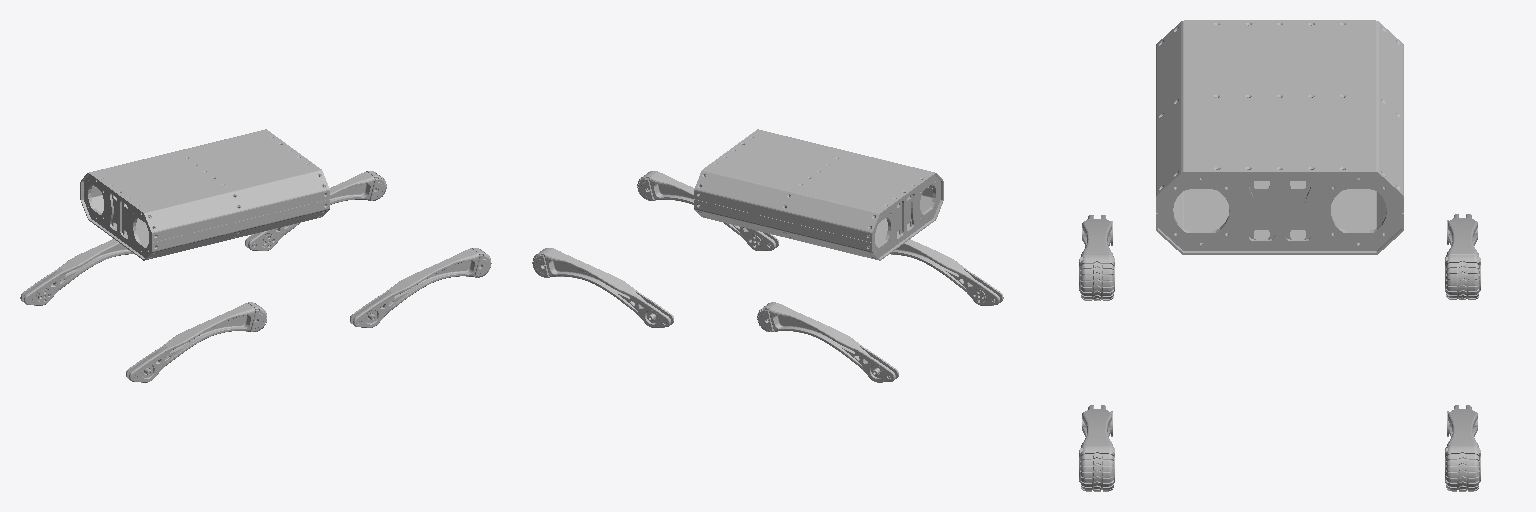
The robot description file, URDF, robot "z2":
<?xml version="1.0"?>
<robot name="z2">
  <!-- package://z2 -->
  <link name="base_link">
    <visual>
      <origin xyz="0 0 0" rpy="0 0 0" />
      <geometry>
        <mesh filename="../meshes/base_link.STL" />
      </geometry>
      <material>
        <color rgba="0.75294000 0.75294000 0.75294000 1.00000000"/>
      </material>
    </visual>
    <collision>
      <origin xyz="-0.0002 0 0.0006991" rpy="0 0 0" />
      <geometry>
        <box size="0.342 0.2369992 0.0869992" />
      </geometry>
    </collision>
    <inertial>
      <origin xyz="-0.000191 0.0000032 0.0006969" rpy="0 0 0" />
      <mass value="6.32" />
      <inertia ixx="0.043000" ixy="0" ixz="0" iyy="0.094133" iyz="0" izz="0.121805" />
    </inertial>
  </link>

  <link name="FL_hip">
    <visual>
      <origin xyz="0 0 0" rpy="0 0 0" />
      <geometry>
        <mesh filename="../meshes/FL_hip.STL" />
      </geometry>
      <material>
        <color rgba="0.75294118 0.75294118 0.75294118 1.00000000"/>
      </material>
    </visual>
    <collision>
      <origin xyz="0.057684 -0.0226742 0.0010791" rpy="1.5707963 0 0" />
      <geometry>
        <cylinder radius="0.0366" length="0.0668" />
      </geometry>
    </collision>
    <inertial>
      <origin xyz="0.0503824 -0.0220598 -0.0002227" rpy="0 0 0" />
      <mass value="0.6" />
      <inertia ixx="0.000554" ixy="0.000086" ixz="0.000005" iyy="0.000603" iyz="-0.000002" izz="0.000641" />
    </inertial>
  </link>

  <link name="FL_thigh">
    <visual>
      <origin xyz="0 0 0" rpy="0 0 0" />
      <geometry>
        <mesh filename="../meshes/FL_thigh.STL" />
      </geometry>
      <material>
        <color rgba="0.75294118 0.75294118 0.75294118 1.00000000"/>
      </material>
    </visual>
    <collision>
      <origin xyz="0 -0.012625 0" rpy="1.5707963 0 0" />
      <geometry>
        <cylinder radius="0.0422" length="0.1005" />
      </geometry>
    </collision>
    <collision>
      <origin xyz="-0.011032 0.0188 -0.077453" rpy="0 0.15 0" />
      <geometry>
        <box size="0.05 0.03 0.19" />
      </geometry>
    </collision>
    <inertial>
      <origin xyz="-0.007049 0.002918 -0.050395" rpy="0 0 0" />
      <mass value="1.013" />
      <inertia ixx="0.005164" ixy="0.000096" ixz="-0.000452" iyy="0.004784" iyz="0.000863" izz="0.001313" />
    </inertial>
  </link>

  <link name="FL_calf">
    <visual>
      <origin xyz="0 0 0" rpy="0 0 0" />
      <geometry>
        <mesh filename="../meshes/FL_calf.STL" />
      </geometry>
      <material>
        <color rgba="0.75294118 0.75294118 0.75294118 1.00000000"/>
      </material>
    </visual>
    <collision>
      <origin xyz="0.002557 0.009165 -0.072349" rpy="0 1.5376 0" />
      <geometry>
        <box size="0.2403 0.04 0.03" />
      </geometry>
    </collision>
    <inertial>
      <origin xyz="0.0081239 0.0001028 -0.0992134" rpy="0 0 0" />
      <mass value="0.1421" />
      <inertia ixx="0.000888" ixy="0" ixz="0.000020" iyy="0.000902" iyz="0.000001" izz="0.000025" />
    </inertial>
  </link>

  <link name="FL_foot">
    <visual>
      <origin xyz="0 0 0" rpy="0 0 0" />
      <geometry>
        <mesh filename="../meshes/FL_foot.STL" />
      </geometry>
      <material>
        <color rgba="0.75294118 0.75294118 0.75294118 1.00000000"/>
      </material>
    </visual>
    <collision>
      <origin xyz="0.000003 -0.00015 0.00064" rpy="0 0 0" />
      <geometry>
        <sphere radius="0.026" />
      </geometry>
    </collision>
    <inertial>
      <origin xyz="-0.0029924 -0.0000316 -0.0056685" rpy="0 0 0" />
      <mass value="0.0241" />
      <inertia ixx="0.000005" ixy="0" ixz="0.000001" iyy="0.000005" iyz="0" izz="0.000006" />
    </inertial>
  </link>

  <link name="FR_hip">
    <visual>
      <origin xyz="0 0 0" rpy="0 0 0" />
      <geometry>
        <mesh filename="../meshes/FR_hip.STL" />
      </geometry>
      <material>
        <color rgba="0.75294118 0.75294118 0.75294118 1.00000000"/>
      </material>
    </visual>
    <collision>
      <origin xyz="0.057684 0.0226742 0.0010791" rpy="1.5707963 0 0" />
      <geometry>
        <cylinder radius="0.0366" length="0.0668" />
      </geometry>
    </collision>
    <inertial>
      <origin xyz="0.0506296 0.0221701 -0.000239" rpy="0 0 0" />
      <mass value="0.6" />
      <inertia ixx="0.000554" ixy="-0.000086" ixz="0.000005" iyy="0.000603" iyz="0.000002" izz="0.000641" />
    </inertial>
  </link>

  <link name="FR_thigh">
    <visual>
      <origin xyz="0 0 0" rpy="0 0 0" />
      <geometry>
        <mesh filename="../meshes/FR_thigh.STL" />
      </geometry>
      <material>
        <color rgba="0.75294118 0.75294118 0.75294118 1.00000000"/>
      </material>
    </visual>
    <collision>
      <origin xyz="0 0.012625 0" rpy="1.5707963 0 0" />
      <geometry>
        <cylinder radius="0.0422" length="0.1005" />
      </geometry>
    </collision>
    <collision>
      <origin xyz="-0.011032 -0.0188 -0.077453" rpy="0 0.15 0" />
      <geometry>
        <box size="0.05 0.03 0.19" />
      </geometry>
    </collision>
    <inertial>
      <origin xyz="-0.007071 -0.003119 -0.050404" rpy="0 0 0" />
      <mass value="1.013" />
      <inertia ixx="0.005163" ixy="-0.000094" ixz="-0.000451" iyy="0.004783" iyz="-0.000862" izz="0.001312" />
    </inertial>
  </link>

  <link name="FR_calf">
    <visual>
      <origin xyz="0 0 0" rpy="0 0 0" />
      <geometry>
        <mesh filename="../meshes/FR_calf.STL" />
      </geometry>
      <material>
        <color rgba="0.75294118 0.75294118 0.75294118 1.00000000"/>
      </material>
    </visual>
    <collision>
      <origin xyz="0.002557 -0.009165 -0.072349" rpy="0 1.5376 0" />
      <geometry>
        <box size="0.2403 0.04 0.03" />
      </geometry>
    </collision>
    <inertial>
      <origin xyz="0.0081241 -0.0001029 -0.0992124" rpy="0 0 0" />
      <mass value="0.1421" />
      <inertia ixx="0.000888" ixy="0" ixz="0.000020" iyy="0.000902" iyz="-0.000001" izz="0.000025" />
    </inertial>
  </link>

  <link name="FR_foot">
    <visual>
      <origin xyz="0 0 0" rpy="0 0 0" />
      <geometry>
        <mesh filename="../meshes/FR_foot.STL" />
      </geometry>
      <material>
        <color rgba="0.75294118 0.75294118 0.75294118 1.00000000"/>
      </material>
    </visual>
    <collision>
      <origin xyz="0.000003 0.00015 0.00064" rpy="0 0 0" />
      <geometry>
        <sphere radius="0.026" />
      </geometry>
    </collision>
    <inertial>
      <origin xyz="-0.0029924 0.0000316 -0.0056685" rpy="0 0 0" />
      <mass value="0.0241" />
      <inertia ixx="0.000005" ixy="0" ixz="0.000001" iyy="0.000005" iyz="0" izz="0.000006" />
    </inertial>
  </link>

  <link name="RL_hip">
    <visual>
      <origin xyz="0 0 0" rpy="0 0 0" />
      <geometry>
        <mesh filename="../meshes/RL_hip.STL" />
      </geometry>
      <material>
        <color rgba="0.75294118 0.75294118 0.75294118 1.00000000"/>
      </material>
    </visual>
    <collision>
      <origin xyz="-0.057684 -0.0226742 0.0010791" rpy="1.5707963 0 0" />
      <geometry>
        <cylinder radius="0.0366" length="0.0668" />
      </geometry>
    </collision>
    <inertial>
      <origin xyz="-0.0506619 -0.0222818 -0.0002469" rpy="0 0 0" />
      <mass value="0.6" />
      <inertia ixx="0.000554" ixy="-0.000085" ixz="-0.000005" iyy="0.000603" iyz="-0.000002" izz="0.000641" />
    </inertial>
  </link>

  <link name="RL_thigh">
    <visual>
      <origin xyz="0 0 0" rpy="0 0 0" />
      <geometry>
        <mesh filename="../meshes/RL_thigh.STL" />
      </geometry>
      <material>
        <color rgba="0.75294118 0.75294118 0.75294118 1.00000000"/>
      </material>
    </visual>
    <collision>
      <origin xyz="0 -0.012625 0" rpy="1.5707963 0 0" />
      <geometry>
        <cylinder radius="0.0422" length="0.1005" />
      </geometry>
    </collision>
    <collision>
      <origin xyz="-0.011032 0.0188 -0.077453" rpy="0 0.15 0" />
      <geometry>
        <box size="0.05 0.03 0.19" />
      </geometry>
    </collision>
    <inertial>
      <origin xyz="-0.007049 0.003118 -0.050395" rpy="0 0 0" />
      <mass value="1.013" />
      <inertia ixx="0.005164" ixy="0.000096" ixz="-0.000452" iyy="0.004784" iyz="0.000863" izz="0.001313" />
    </inertial>
  </link>

  <link name="RL_calf">
    <visual>
      <origin xyz="0 0 0" rpy="0 0 0" />
      <geometry>
        <mesh filename="../meshes/RL_calf.STL" />
      </geometry>
      <material>
        <color rgba="0.75294118 0.75294118 0.75294118 1.00000000"/>
      </material>
    </visual>
    <collision>
      <origin xyz="0.002557 0.009165 -0.072349" rpy="0 1.5376 0" />
      <geometry>
        <box size="0.2403 0.04 0.03" />
      </geometry>
    </collision>
    <inertial>
      <origin xyz="0.0081239 0.0001028 -0.0992134" rpy="0 0 0" />
      <mass value="0.1421" />
      <inertia ixx="0.000888" ixy="0" ixz="0.000020" iyy="0.000902" iyz="0.000001" izz="0.000025" />
    </inertial>
  </link>

  <link name="RL_foot">
    <visual>
      <origin xyz="0 0 0" rpy="0 0 0" />
      <geometry>
        <mesh filename="../meshes/RL_foot.STL" />
      </geometry>
      <material>
        <color rgba="0.75294118 0.75294118 0.75294118 1.00000000"/>
      </material>
    </visual>
    <collision>
      <origin xyz="0.000003 -0.00015 0.00064" rpy="0 0 0" />
      <geometry>
        <sphere radius="0.026" />
      </geometry>
    </collision>
    <inertial>
      <origin xyz="-0.0029924 -0.0000316 -0.0056685" rpy="0 0 0" />
      <mass value="0.0241" />
      <inertia ixx="0.000005" ixy="0" ixz="0.000001" iyy="0.000005" iyz="0" izz="0.000006" />
    </inertial>
  </link>

  <link name="RR_hip">
    <visual>
      <origin xyz="0 0 0" rpy="0 0 0" />
      <geometry>
        <mesh filename="../meshes/RR_hip.STL" />
      </geometry>
      <material>
        <color rgba="0.75294118 0.75294118 0.75294118 1.00000000"/>
      </material>
    </visual>
    <collision>
      <origin xyz="-0.057684 0.0226742 0.0010791" rpy="1.5707963 0 0" />
      <geometry>
        <cylinder radius="0.0366" length="0.0668" />
      </geometry>
    </collision>
    <inertial>
      <origin xyz="-0.0506297 0.0221701 -0.0002391" rpy="0 0 0" />
      <mass value="0.6" />
      <inertia ixx="0.000554" ixy="0.000086" ixz="-0.000005" iyy="0.000603" iyz="0.000002" izz="0.000641" />
    </inertial>
  </link>

  <link name="RR_thigh">
    <visual>
      <origin xyz="0 0 0" rpy="0 0 0" />
      <geometry>
        <mesh filename="../meshes/RR_thigh.STL" />
      </geometry>
      <material>
        <color rgba="0.75294118 0.75294118 0.75294118 1.00000000"/>
      </material>
    </visual>
    <collision>
      <origin xyz="0 0.012625 0" rpy="1.5707963 0 0" />
      <geometry>
        <cylinder radius="0.0422" length="0.1005" />
      </geometry>
    </collision>
    <collision>
      <origin xyz="-0.011032 -0.0188 -0.077453" rpy="0 0.15 0" />
      <geometry>
        <box size="0.05 0.03 0.19" />
      </geometry>
    </collision>
    <inertial>
      <origin xyz="-0.006854 -0.003352 -0.049844" rpy="0 0 0" />
      <mass value="1.013" />
      <inertia ixx="0.005163" ixy="-0.000094" ixz="-0.000451" iyy="0.004783" iyz="-0.000862" izz="0.001312" />
    </inertial>
  </link>

  <link name="RR_calf">
    <visual>
      <origin xyz="0 0 0" rpy="0 0 0" />
      <geometry>
        <mesh filename="../meshes/RR_calf.STL" />
      </geometry>
      <material>
        <color rgba="0.75294118 0.75294118 0.75294118 1.00000000"/>
      </material>
    </visual>
    <collision>
      <origin xyz="0.002557 -0.009165 -0.072349" rpy="0 1.5376 0" />
      <geometry>
        <box size="0.2403 0.04 0.03" />
      </geometry>
    </collision>
    <inertial>
      <origin xyz="0.0081241 -0.0001029 -0.0992124" rpy="0 0 0" />
      <mass value="0.1421" />
      <inertia ixx="0.000888" ixy="0" ixz="0.000020" iyy="0.000902" iyz="-0.000001" izz="0.000025" />
    </inertial>
  </link>

  <link name="RR_foot">
    <visual>
      <origin xyz="0 0 0" rpy="0 0 0" />
      <geometry>
        <mesh filename="../meshes/RR_foot.STL" />
      </geometry>
      <material>
        <color rgba="0.75294118 0.75294118 0.75294118 1.00000000"/>
      </material>
    </visual>
    <collision>
      <origin xyz="0.000003 0.00015 0.00064" rpy="0 0 0" />
      <geometry>
        <sphere radius="0.026" />
      </geometry>
    </collision>
    <inertial>
      <origin xyz="-0.0029924 0.0000316 -0.0056685" rpy="0 0 0" />
      <mass value="0.0241" />
      <inertia ixx="0.000005" ixy="0" ixz="0.000001" iyy="0.000005" iyz="0" izz="0.000006" />
    </inertial>
  </link>

  <joint name="FL_hip_joint" type="revolute">
    <parent link="base_link" />
    <child link="FL_hip" />
    <origin xyz="0.16 0.075 0" rpy="0 0 0" />
    <axis xyz="1 0 0" />
    <limit lower="-0.5" upper="0.5" effort="30" velocity="15" />
  </joint>

  <joint name="FL_thigh_joint" type="revolute">
    <parent link="FL_hip" />
    <child link="FL_thigh" />
    <origin xyz="0.055 0.0842 0" rpy="0 0 0" />
    <axis xyz="0 1 0" />
    <limit lower="-0.1" upper="3.2" effort="30" velocity="15" />
  </joint>

  <joint name="FL_calf_joint" type="revolute">
    <parent link="FL_thigh" />
    <child link="FL_calf" />
    <origin xyz="0 0.01475 -0.2" rpy="0 0 0" />
    <axis xyz="0 1 0" />
    <limit lower="-2.6965337" upper="-0.9162979" effort="30" velocity="15" />
  </joint>

  <joint name="FL_foot_joint" type="fixed">
    <parent link="FL_calf" />
    <child link="FL_foot" />
    <origin xyz="0 0.0002 -0.21012" rpy="0 0 0" />
  </joint>

  <joint name="RL_hip_joint" type="revolute">
    <parent link="base_link" />
    <child link="RL_hip" />
    <origin xyz="-0.16 0.075 0.0006991" rpy="0 0 0" />
    <axis xyz="1 0 0" />
    <limit lower="-0.5" upper="0.5" effort="30" velocity="15" />
  </joint>

  <joint name="RL_thigh_joint" type="revolute">
    <parent link="RL_hip" />
    <child link="RL_thigh" />
    <origin xyz="-0.0556459 0.084 -0.0002675" rpy="0 0 0" />
    <axis xyz="0 1 0" />
    <limit lower="-0.1" upper="3.2" effort="30" velocity="15" />
  </joint>

  <joint name="RL_calf_joint" type="revolute">
    <parent link="RL_thigh" />
    <child link="RL_calf" />
    <origin xyz="0 0.01495 -0.2" rpy="0 0 0" />
    <axis xyz="0 1 0" />
    <limit lower="-2.6965337" upper="-0.9162979" effort="30" velocity="15" />
  </joint>

  <joint name="RL_foot_joint" type="fixed">
    <parent link="RL_calf" />
    <child link="RL_foot" />
    <origin xyz="0 0.0002 -0.2101231" rpy="0 0 0" />
  </joint>

  <joint name="FR_hip_joint" type="revolute">
    <parent link="base_link" />
    <child link="FR_hip" />
    <origin xyz="0.16 -0.075 0" rpy="0 0 0" />
    <axis xyz="1 0 0" />
    <limit lower="-0.5" upper="0.5" effort="30" velocity="15" />
  </joint>

  <joint name="FR_thigh_joint" type="revolute">
    <parent link="FR_hip" />
    <child link="FR_thigh" />
    <origin xyz="0.055 -0.084 0" rpy="0 0 0" />
    <axis xyz="0 1 0" />
    <limit lower="-0.1" upper="3.2" effort="30" velocity="15" />
  </joint>

  <joint name="FR_calf_joint" type="revolute">
    <parent link="FR_thigh" />
    <child link="FR_calf" />
    <origin xyz="0 -0.01495 -0.2" rpy="0 0 0" />
    <axis xyz="0 1 0" />
    <limit lower="-2.6965337" upper="-0.9162979" effort="30" velocity="15" />
  </joint>

  <joint name="FR_foot_joint" type="fixed">
    <parent link="FR_calf" />
    <child link="FR_foot" />
    <origin xyz="0 -0.0002 -0.21012" rpy="0 0 0" />
  </joint>

  <joint name="RR_hip_joint" type="revolute">
    <parent link="base_link" />
    <child link="RR_hip" />
    <origin xyz="-0.16 -0.075 0" rpy="0 0 0" />
    <axis xyz="1 0 0" />
    <limit lower="-0.5" upper="0.5" effort="30" velocity="15" />
  </joint>

  <joint name="RR_thigh_joint" type="revolute">
    <parent link="RR_hip" />
    <child link="RR_thigh" />
    <origin xyz="-0.055 -0.0842 0" rpy="0 0 0" />
    <axis xyz="0 1 0" />
    <limit lower="-0.1" upper="3.2" effort="30" velocity="15" />
  </joint>

  <joint name="RR_calf_joint" type="revolute">
    <parent link="RR_thigh" />
    <child link="RR_calf" />
    <origin xyz="0 -0.01475 -0.2" rpy="0 0 0" />
    <axis xyz="0 1 0" />
    <limit lower="-2.6965337" upper="-0.9162979" effort="30" velocity="15" />
  </joint>

  <joint name="RR_foot_joint" type="fixed">
    <parent link="RR_calf" />
    <child link="RR_foot" />
    <origin xyz="0 -0.0002 -0.21012" rpy="0 0 0" />
  </joint>

</robot>

--- Render facts (derived) ---
3 views of the same robot in one strip: view 1: azimuth 30°, elevation 25°; view 2: azimuth 150°, elevation 25°; view 3: azimuth 270°, elevation 25° (orthographic).
Model z2 with 17 links and 16 joints (12 revolute, 4 fixed), rooted at base_link, posed joints at zero except 4 at the middle of their limits (FL_calf_joint = -1.81, RL_calf_joint = -1.81, FR_calf_joint = -1.81, RR_calf_joint = -1.81).
Links seen in each view (by area): view 1: base_link, FR_calf, RR_calf, RL_calf, FL_calf; view 2: base_link, FL_calf, RL_calf, RR_calf, FR_calf; view 3: base_link, RR_foot, FR_foot, FL_foot, RL_foot, RL_calf, FL_calf, FR_calf, RR_calf.
Boxes of the visible links, left/top/right/bottom form: base_link: left=80, top=129, right=329, bottom=260; FR_calf: left=350, top=248, right=479, bottom=327; RR_calf: left=126, top=303, right=255, bottom=382; RL_calf: left=20, top=239, right=133, bottom=305; FL_calf: left=245, top=172, right=374, bottom=250; base_link: left=694, top=129, right=943, bottom=260; FL_calf: left=544, top=248, right=673, bottom=327; RL_calf: left=769, top=303, right=898, bottom=382; RR_calf: left=890, top=239, right=1003, bottom=305; FR_calf: left=649, top=172, right=778, bottom=250; base_link: left=1156, top=20, right=1403, bottom=254; RR_foot: left=1079, top=255, right=1114, bottom=300; FR_foot: left=1079, top=446, right=1114, bottom=491; FL_foot: left=1445, top=446, right=1480, bottom=491; RL_foot: left=1445, top=255, right=1480, bottom=299; RL_calf: left=1446, top=214, right=1478, bottom=256; FL_calf: left=1446, top=405, right=1478, bottom=447; FR_calf: left=1081, top=405, right=1113, bottom=447; RR_calf: left=1081, top=215, right=1113, bottom=256.
Size in the robot's own frame: 0.6921 by 0.3823 by 0.2641 metres.
Meshes: 17 distinct files referenced, 9 mesh visuals loaded (9 binary STL); not drawn: 8 (reference not matched to a file when rendering).
